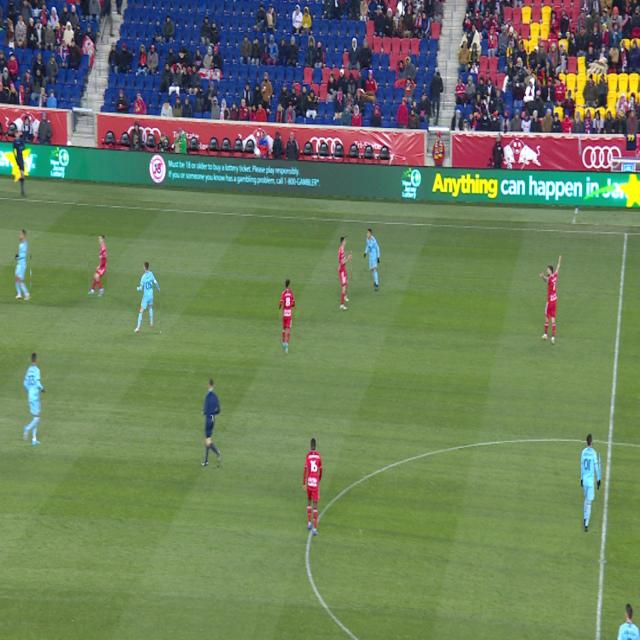player: (23, 353, 44, 445), (540, 256, 561, 344), (303, 439, 322, 535), (135, 263, 160, 333), (582, 434, 599, 532), (279, 279, 295, 354), (88, 235, 107, 297), (364, 229, 380, 291), (16, 231, 30, 300), (339, 237, 351, 309), (618, 604, 640, 640), (599, 487, 599, 489)
referee: (201, 379, 221, 466)
